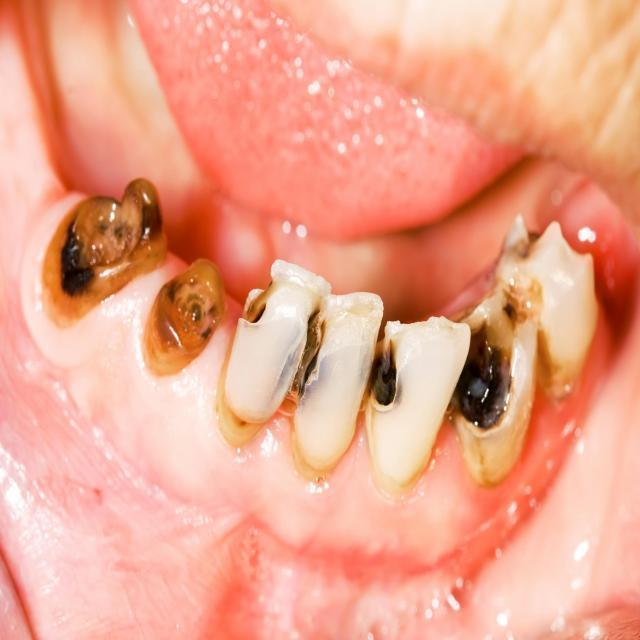caries: (18, 178, 168, 358), (365, 314, 473, 503), (447, 280, 541, 483), (221, 262, 329, 438), (493, 220, 611, 378), (296, 294, 386, 483), (146, 252, 218, 396)
